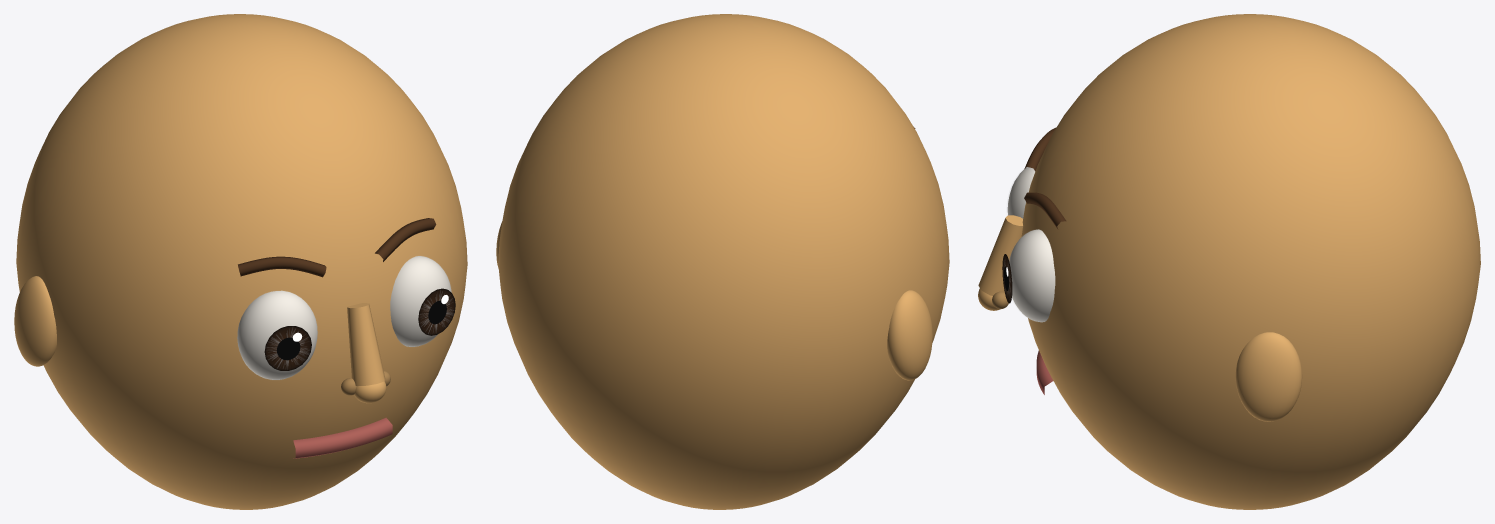
File: 11-levres-epaisses.glb
The picture shows the model from 3 angles, left to right: view 1: azimuth 30°, elevation 25°; view 2: azimuth 150°, elevation 25°; view 3: azimuth 270°, elevation 25°; orthographic projection.
Bounding box in the file's own units: 0.3087 × 0.321 × 0.3166.
9 materials, 1 textured.
